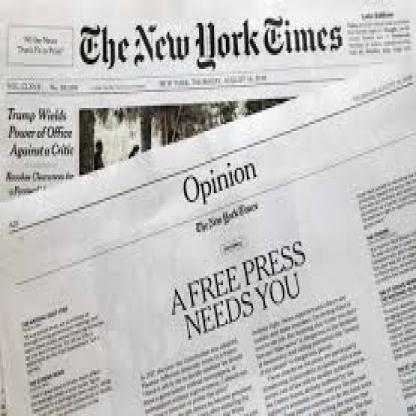paper: (0, 48, 415, 414), (0, 0, 415, 200)
